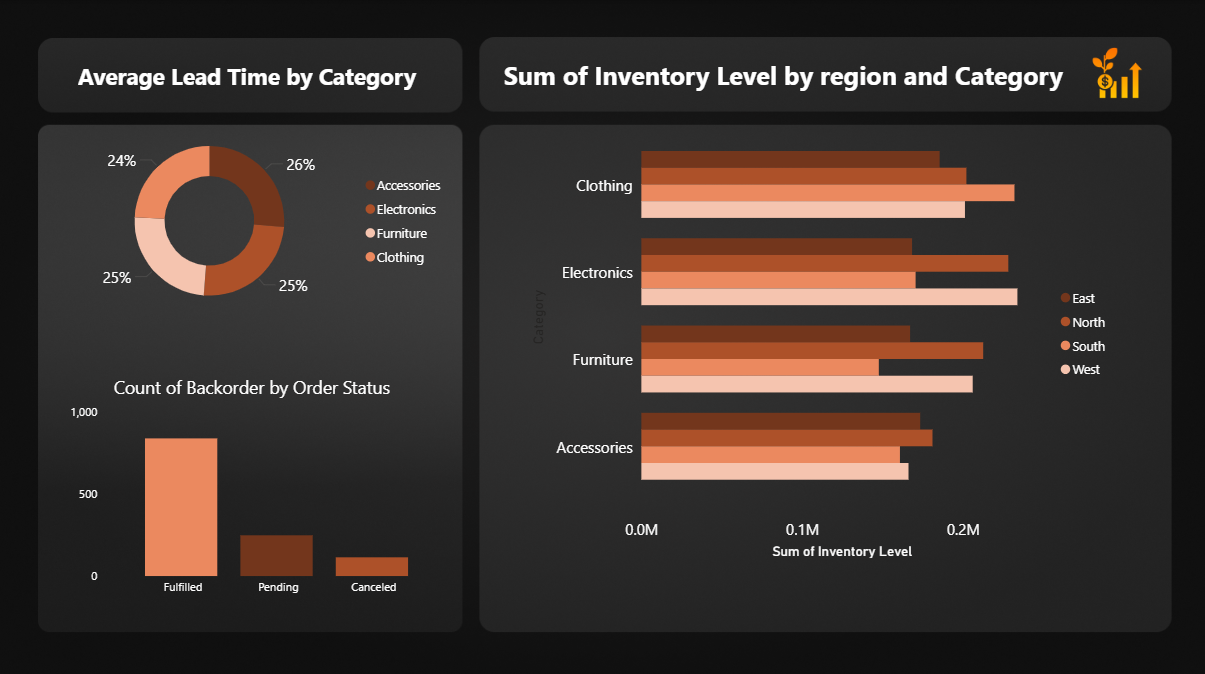

Layout of this report page (visuals, bound fields, positions):
{"tool":"powerbi","page":{"name":"Page 2","canvas":[1280,720],"ordinal":1},"visuals":[{"type":"donutChart","fields":{"Y":["Avg(Inventory and supply chain Dataset.Lead Time)"],"Category":["Inventory and supply chain Dataset.Category"]},"box":[54.1,122.5,429.5,222.7],"z":0},{"type":"image","box":[1144.4,44.4,87.3,65.1],"z":1000},{"type":"columnChart","fields":{"Y":["CountNonNull(Inventory and supply chain Dataset.Backorder)"],"Category":["Inventory and supply chain Dataset.Order Status"]},"box":[54,398.4,430.2,242.9],"z":2000},{"type":"clusteredBarChart","fields":{"Y":["Sum(Inventory and supply chain Dataset.Inventory Level)"],"Category":["Inventory and supply chain Dataset.Category"],"Series":["Inventory and supply chain Dataset.Region"]},"box":[559.9,109.8,628.3,486.7],"z":3000},{"type":"textbox","box":[79.5,58.9,380.2,50.9],"z":4000},{"type":"textbox","box":[531.3,55.7,612.4,58.9],"z":4001}]}

Visuals, with their boxes in screenshot pixels (x1, y1, x2, y2), scaled from the page's 1280x720 canvas onto the 1205x674 screenshot:
donutChart - Avg(Inventory and supply chain Dataset.Lead Time) x Inventory and supply chain Dataset.Category: (51,115,455,323)
image: (1077,42,1160,103)
columnChart - CountNonNull(Inventory and supply chain Dataset.Backorder) x Inventory and supply chain Dataset.Order Status: (51,373,456,600)
clusteredBarChart - Sum(Inventory and supply chain Dataset.Inventory Level) x Inventory and supply chain Dataset.Category: (527,103,1119,558)
textbox: (75,55,433,103)
textbox: (500,52,1077,107)
